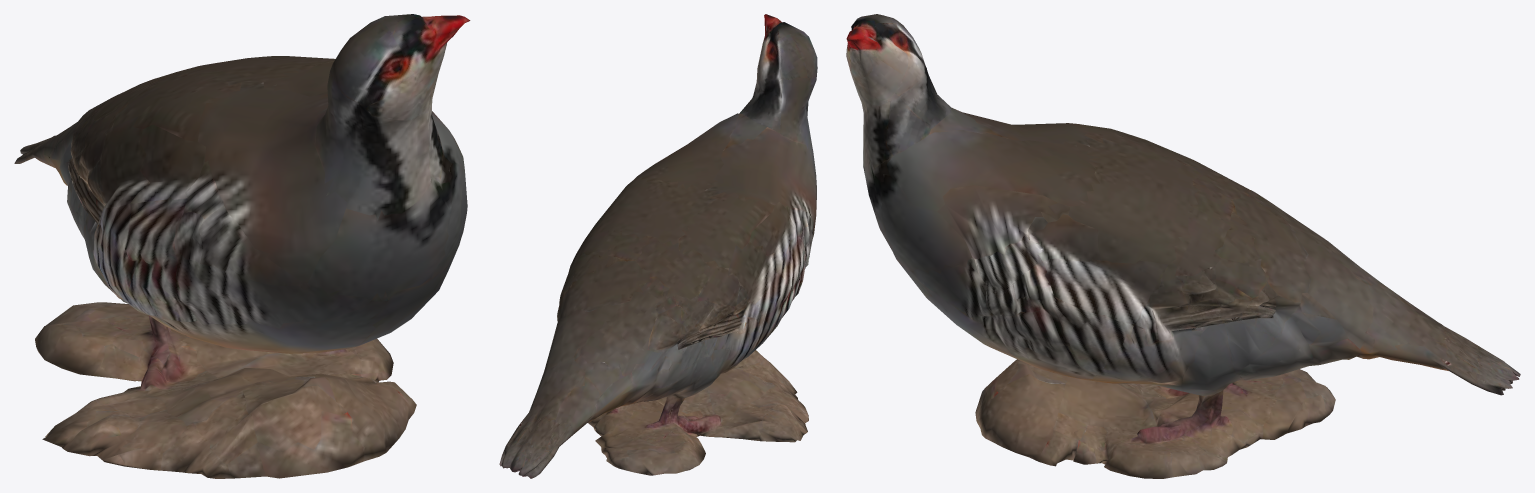
File: coturnice.glb
The picture shows the model from 3 angles, left to right: view 1: azimuth 30°, elevation 25°; view 2: azimuth 150°, elevation 25°; view 3: azimuth 270°, elevation 25°; orthographic projection. The views are drawn at different scales.
Visible parts, largest first — view 1: Mesh_0; view 2: Mesh_0; view 3: Mesh_0.
Boxes of the visible parts, x1=… form: Mesh_0: x1=14, y1=14, x2=470, y2=478; Mesh_0: x1=499, y1=14, x2=817, y2=478; Mesh_0: x1=846, y1=14, x2=1520, y2=478.
Bounding box in the file's own units: 0.9131 × 1.25 × 1.9.
1 material, 1 textured.
